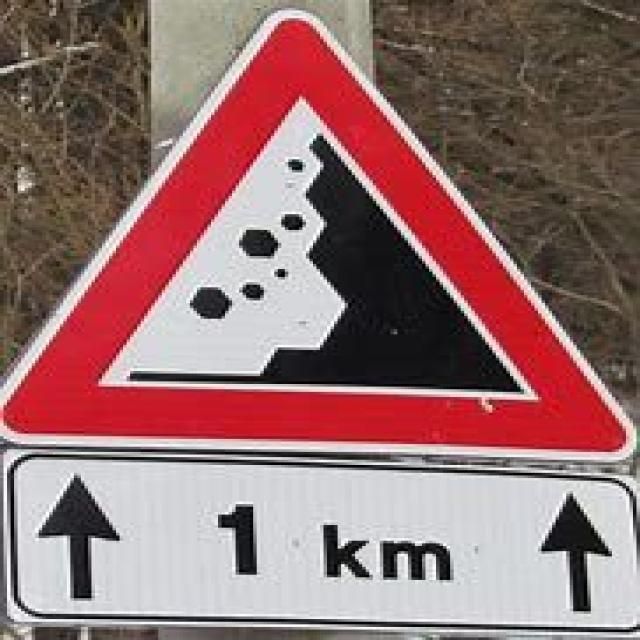falling rocks: (20, 14, 613, 464)
